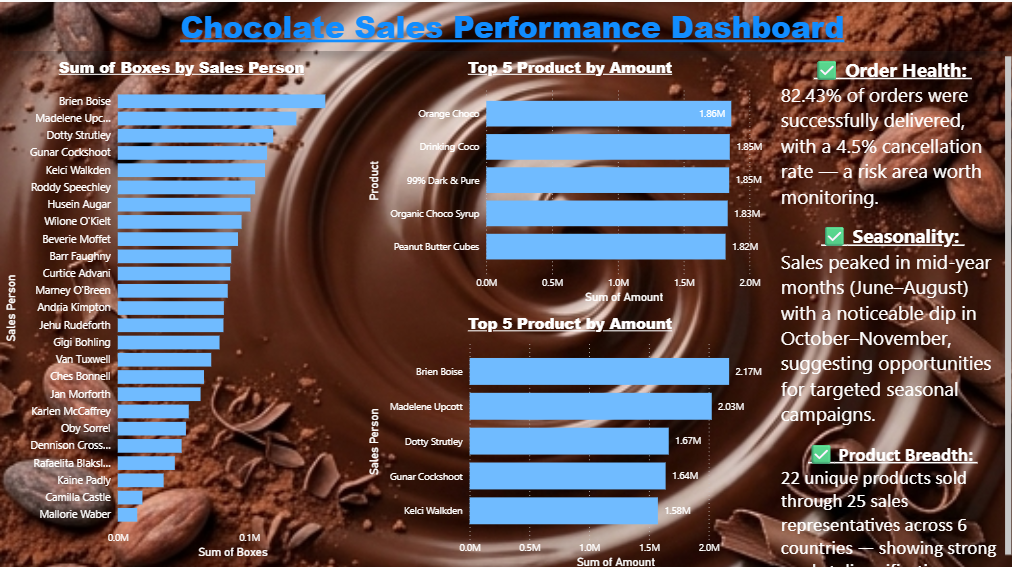

The dashboard page shown, as its layout file describes it:
{"tool":"powerbi","page":{"name":"page 04","canvas":[1280,720],"ordinal":3},"visuals":[{"type":"textbox","box":[9.4,0,1271.8,62.4],"z":0},{"type":"barChart","title":"Top 5 Product by Amount","fields":{"Category":["data.Product"],"Y":["Sum(data.Amount)"]},"box":[457.3,62.4,521.6,323.2],"z":1000},{"type":"barChart","title":"Top 5 Product by Amount","fields":{"Y":["Sum(data.Amount)"],"Category":["data.Sales Person"]},"box":[457.3,385.5,521.6,334.5],"z":2000},{"type":"clusteredBarChart","fields":{"Category":["data.Sales Person"],"Y":["Sum(data.Boxes)","select"]},"box":[0,62.4,457.3,644.4],"z":2001},{"type":"textbox","box":[978.9,62.4,300.5,657.6],"z":2002}]}

Visuals, with their boxes in screenshot pixels (x1, y1, x2, y2), scaled from the page's 1280x720 canvas onto the 1012x567 screenshot:
textbox: 7, 0, 1011, 49
"Top 5 Product by Amount" barChart: 362, 49, 774, 304
"Top 5 Product by Amount" barChart: 362, 304, 774, 566
clusteredBarChart - data.Sales Person x Sum(data.Boxes): 0, 49, 362, 557
textbox: 774, 49, 1011, 566
